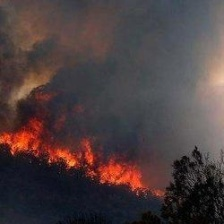fire: (1, 122, 167, 202)
smoke: (11, 4, 223, 113)
